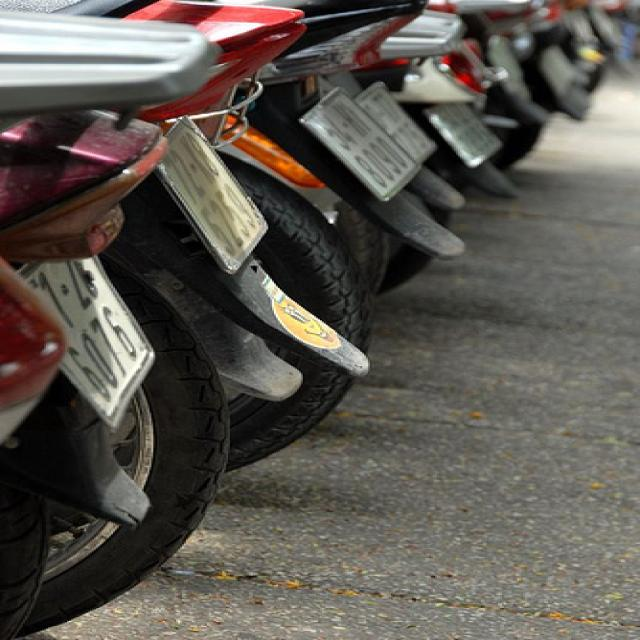motor: (4, 4, 384, 638), (7, 7, 228, 631), (253, 0, 467, 300), (232, 130, 371, 471), (426, 3, 553, 171), (365, 62, 519, 197), (169, 288, 302, 401), (352, 9, 506, 104), (483, 0, 592, 121), (558, 3, 621, 62), (556, 23, 604, 90)
